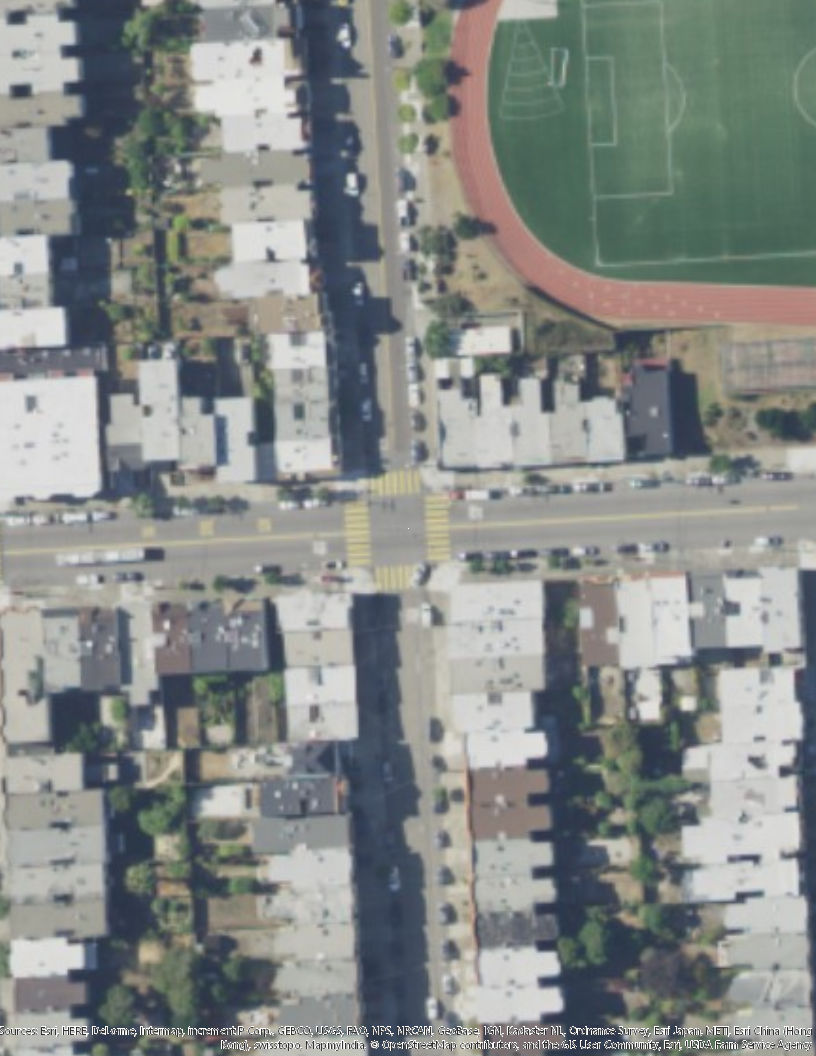zebracross: (422, 496, 453, 561), (342, 499, 372, 566), (366, 467, 417, 498), (372, 566, 425, 589)
